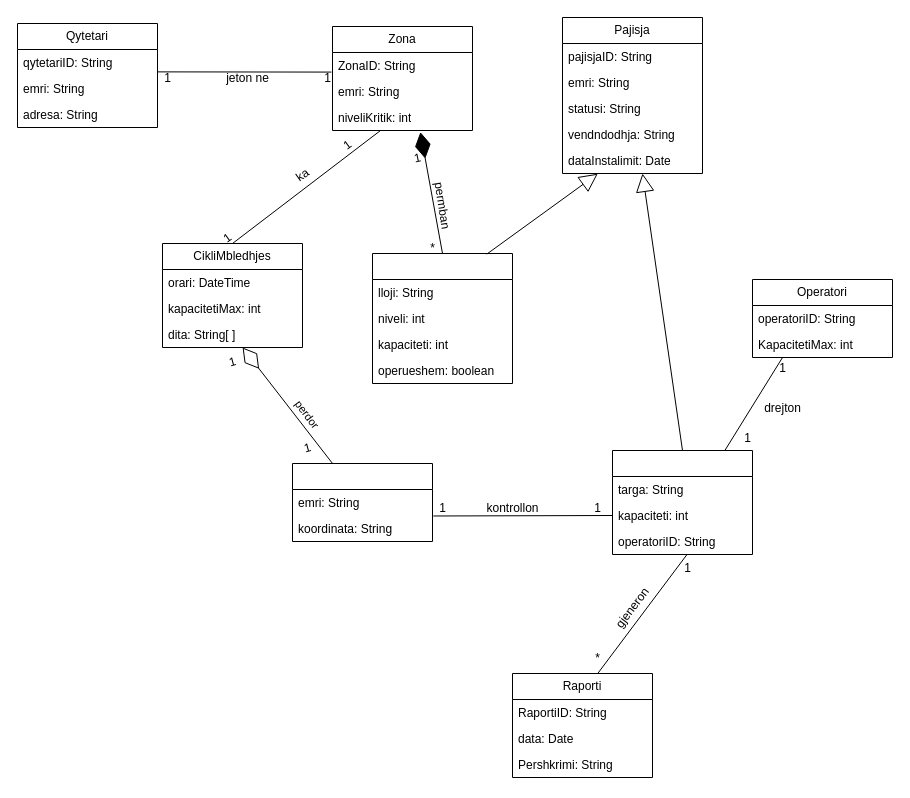
Image size: 910x798. Some labels were removed from this diagram. Here are the shapes that lost their labels. From the top down, the box of each, then its label:
(372, 252, 512, 384): Kontenieri
(292, 462, 432, 542): Vendndodhja
(612, 450, 752, 554): Kamioni
